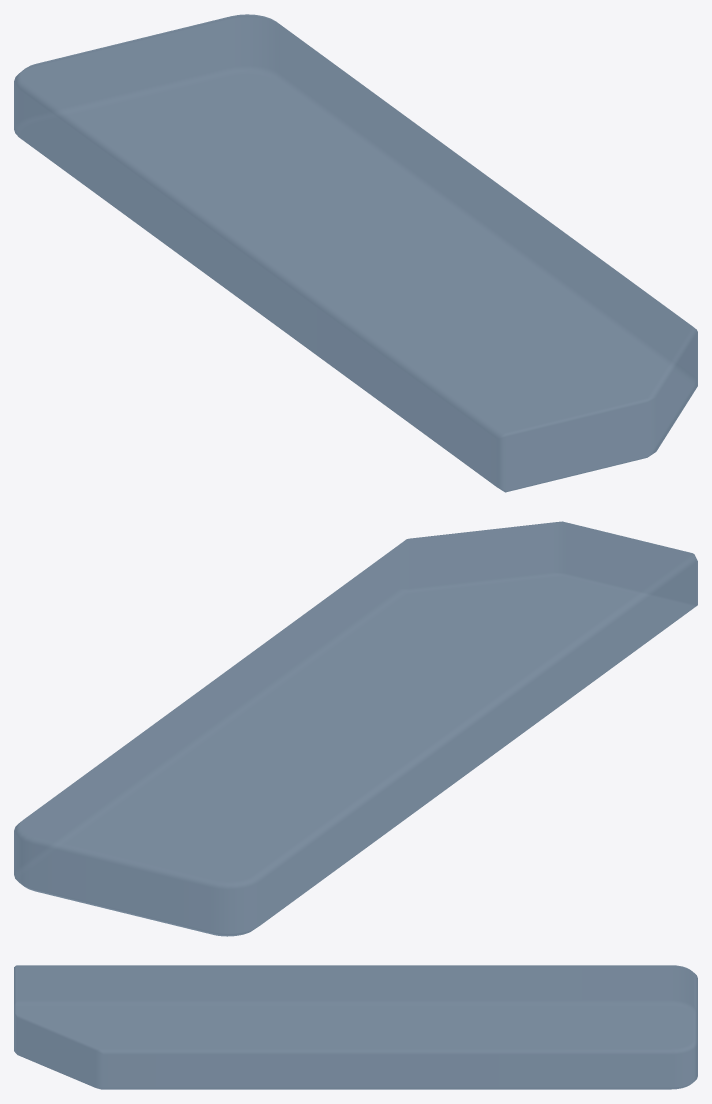
File: Side_Glass_02.fbx
The picture shows the model from 3 angles, top to bottom: view 1: azimuth 30°, elevation 25°; view 2: azimuth 150°, elevation 25°; view 3: azimuth 270°, elevation 25°; orthographic projection. The views are drawn at different scales.
Parts seen in each view (by area): view 1: Side_Glass_02; view 2: Side_Glass_02; view 3: Side_Glass_02.
Part boxes in pixels (left/top/right/bottom): Side_Glass_02: left=14, top=14, right=697, bottom=492; Side_Glass_02: left=14, top=521, right=697, bottom=936; Side_Glass_02: left=14, top=965, right=697, bottom=1089.
Size of the model in its own units: 0.4609 by 0.1 by 1.52.
